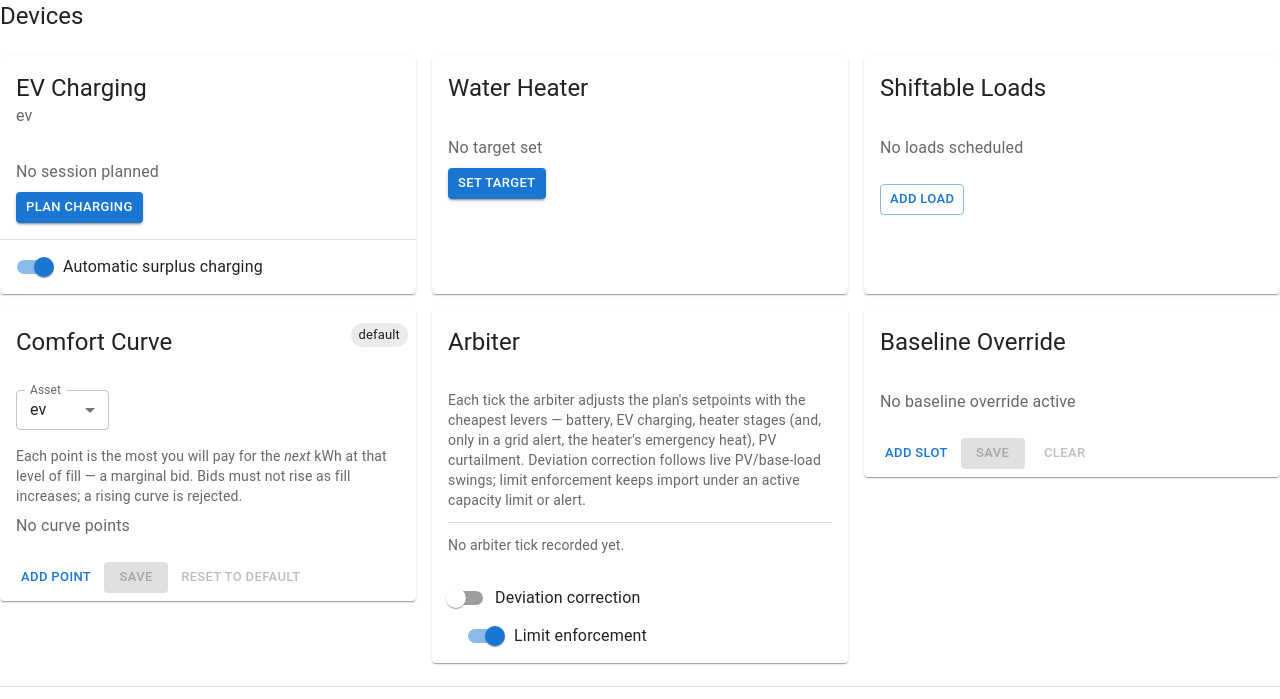
Test case: DevicesPage › prompts with the clashing plan instead of just refusing
Click the button with test id "ev-plan-btn": (79,207) [16,192,143,223]
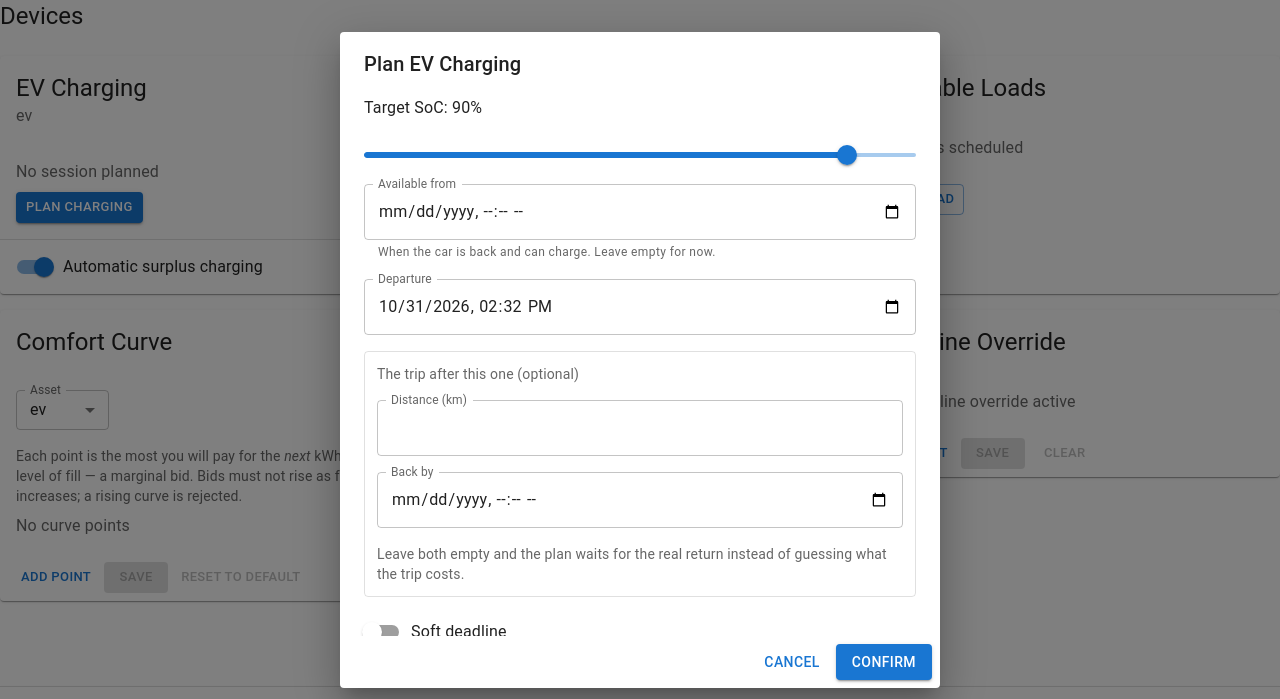
Click the button with test id "ev-dialog-confirm": (884,662) [836,644,932,680]
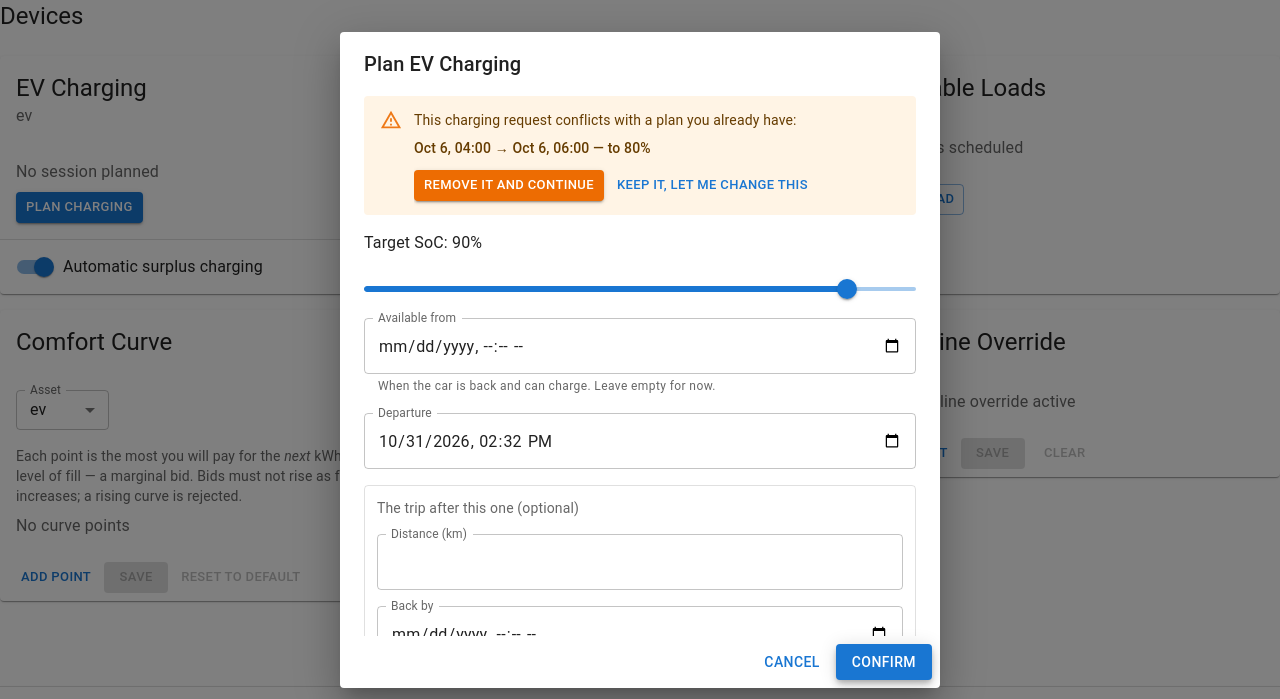
Now the message with test id "ev-conflict-prompt" shows "conflicts with a plan you already have", box [414,112,797,128]
Now the text with test id "ev-conflict-sess-standing" shows "80%", box [414,140,651,156]
Now the button with test id "ev-conflict-replace-btn" is shown, box [414,170,604,201]
